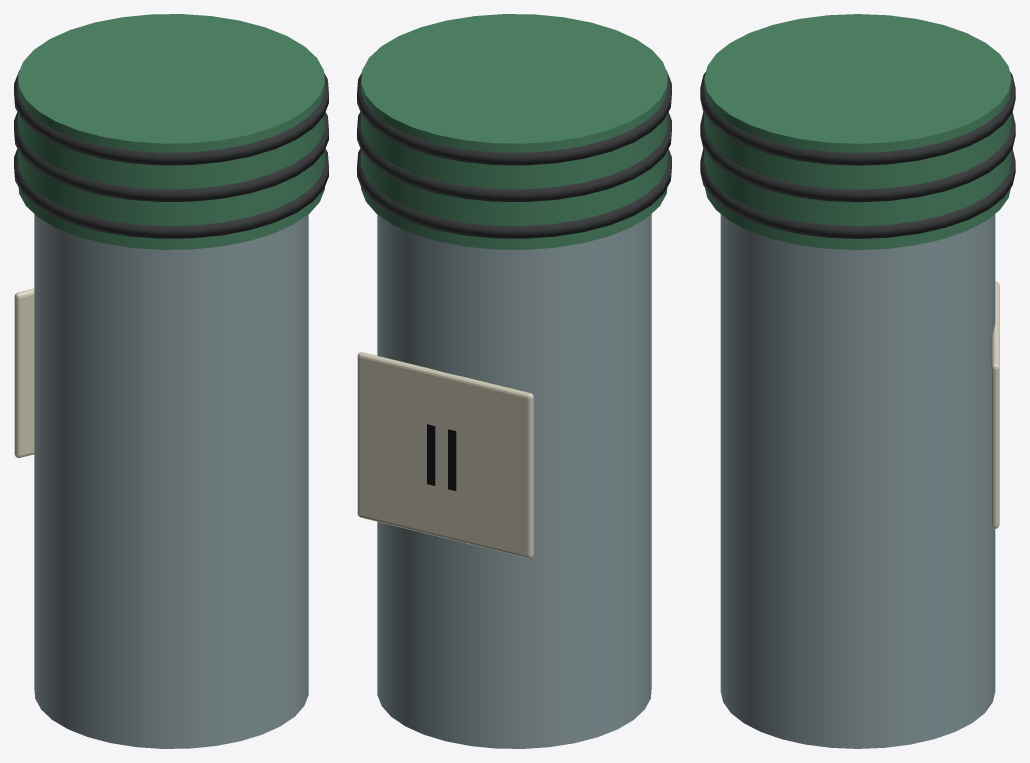
Rendered from specimen_b.glb.
3 views of the same model, side by side, from view 1: azimuth 30°, elevation 25°; view 2: azimuth 150°, elevation 25°; view 3: azimuth 270°, elevation 25° (orthographic).
Parts seen in each view (by area): view 1: specimen_b; view 2: specimen_b; view 3: specimen_b.
Part boxes in pixels (x1,y1,x2,y2): specimen_b: [14, 14, 328, 748]; specimen_b: [357, 14, 671, 748]; specimen_b: [700, 14, 1015, 748].
Size of the model in its own units: 0.078 by 0.167 by 0.078.
